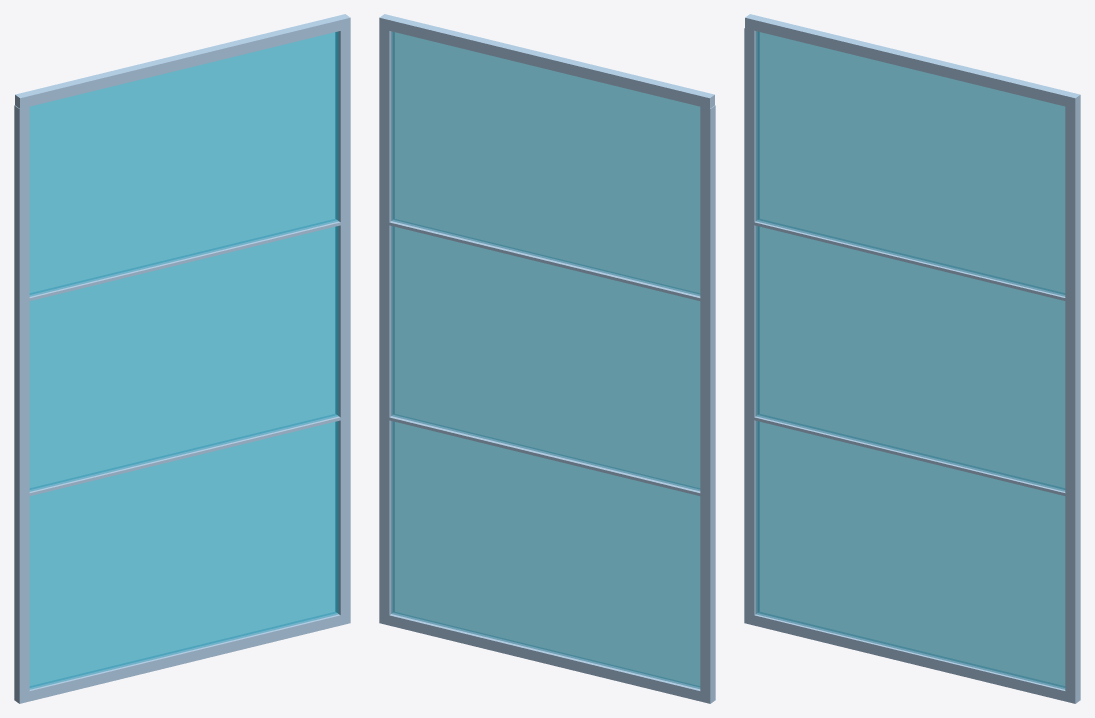
The model's file is Wall.fbx.
The picture shows the model from 3 angles, left to right: view 1: azimuth 30°, elevation 25°; view 2: azimuth 150°, elevation 25°; view 3: azimuth 330°, elevation 25°; orthographic projection.
Parts seen in each view (by area): view 1: Wall.001; view 2: Wall.001; view 3: Wall.001.
Part boxes in pixels (<box>): Wall.001: <box>14,14,350,703</box>; Wall.001: <box>379,14,715,703</box>; Wall.001: <box>744,14,1080,703</box>.
Size of the model in its own units: 1213 by 2121 by 32.21.
